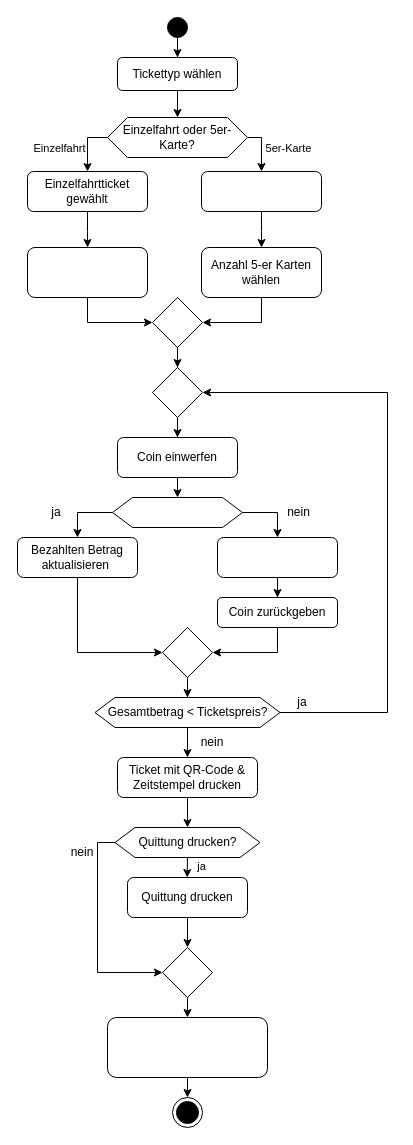
This 413x1145 diagram has some shape labels left out. Here are the shapes that lost their labels. From the top down, the box of each, then its label:
(200, 170, 322, 212): 5-er Karte gewählt
(26, 246, 148, 298): Anzahl Einzelnfahrttickets wählen
(112, 496, 242, 528): Coin gültig?
(216, 536, 338, 578): Fehlermeldung anzeigen
(106, 1016, 268, 1078): Daten an die Überwachungszentrale senden
